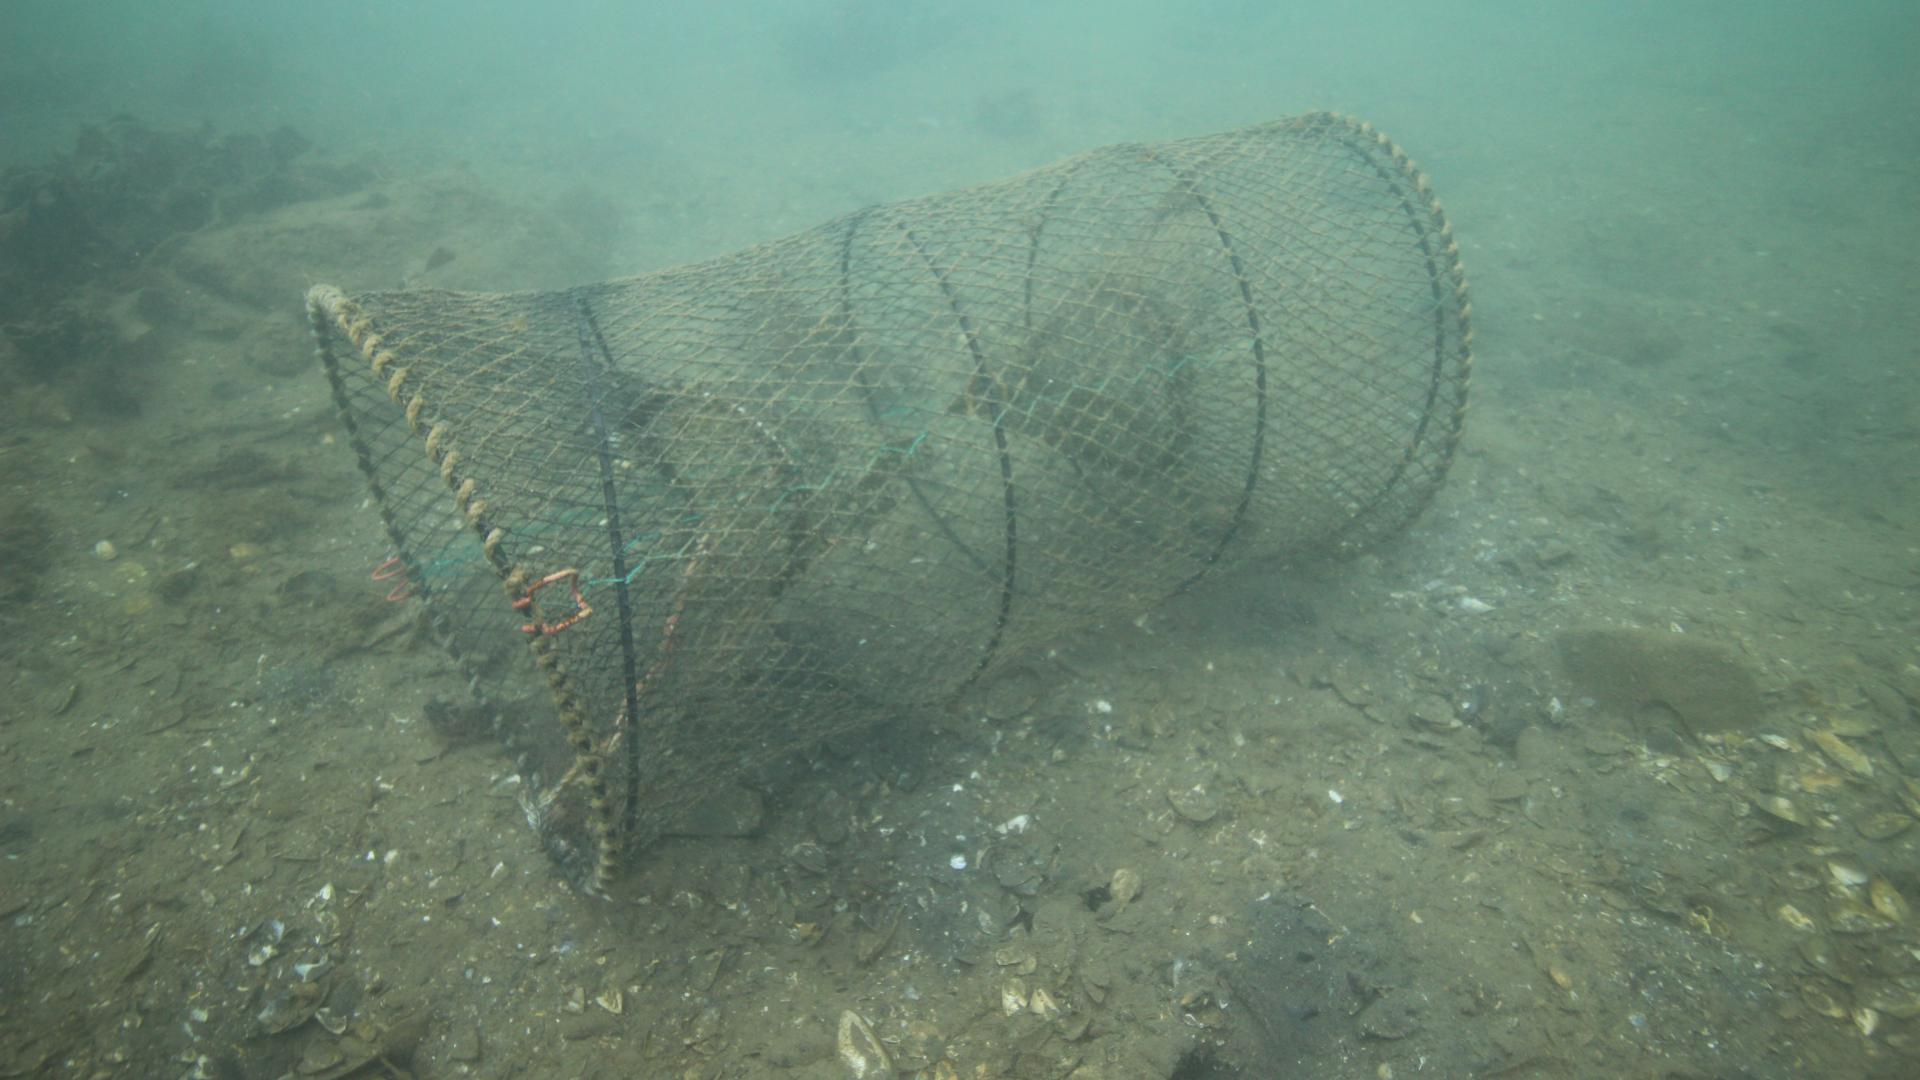spring fish trap: (295, 104, 1480, 903)
